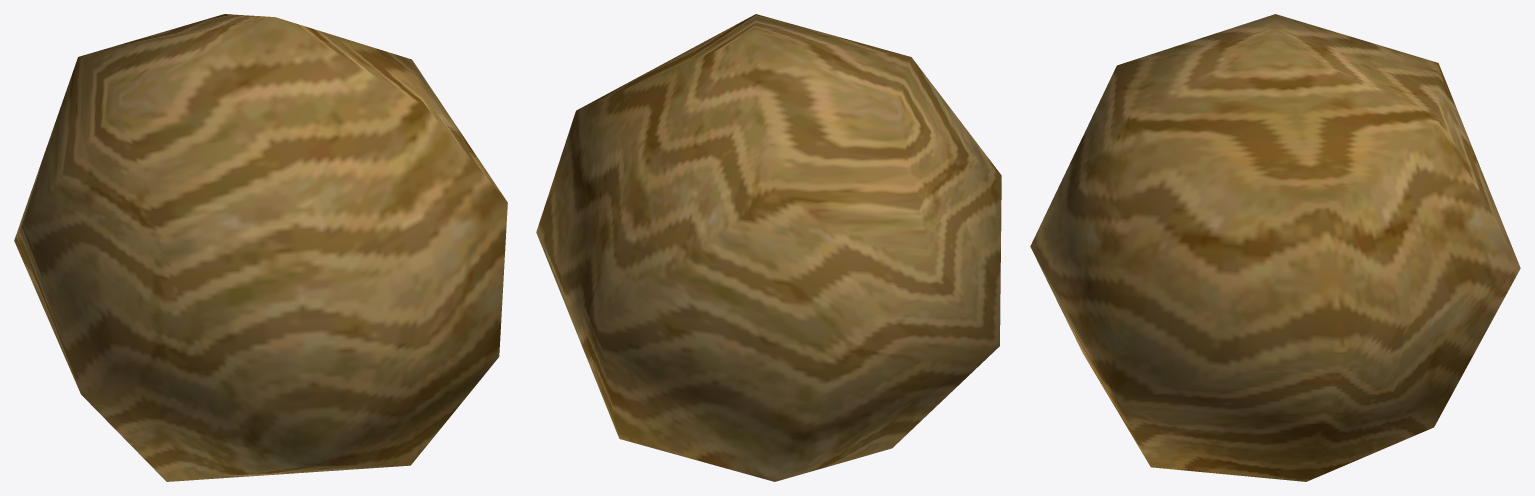
Rendered from old_choco_64-rock2.glb.
The picture shows the model from 3 angles, left to right: view 1: azimuth 30°, elevation 25°; view 2: azimuth 150°, elevation 25°; view 3: azimuth 270°, elevation 25°; orthographic projection. The views are drawn at different scales.
Visible parts, largest first — view 1: rock2; view 2: rock2; view 3: rock2.
Part boxes in pixels (x1,y1,x2,y2): rock2: (14, 14, 507, 481); rock2: (536, 14, 1001, 481); rock2: (1030, 14, 1520, 481).
Bounding box in the file's own units: 3.55 × 3.56 × 3.79.
Materials: 1 (1 with a texture image).
